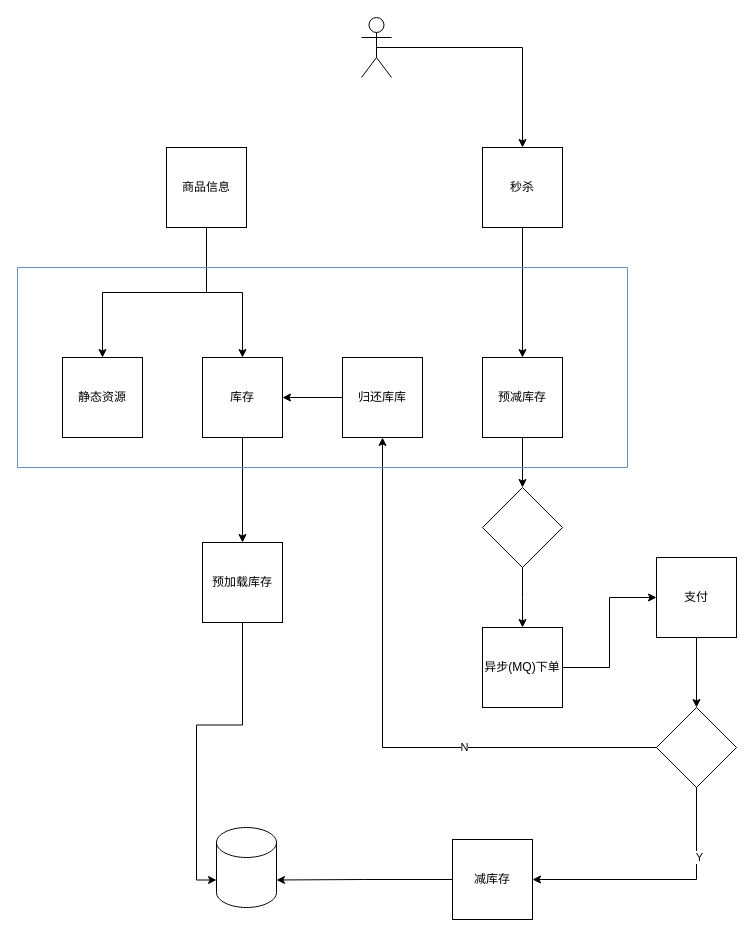
Some shapes in this 754 by 937 pixel diagram are drawn without their labels. Here are the shapes that lost their labels. From the top down, the centre of each, then its label:
point (376, 47): Actor
point (322, 367): 缓存(redis)
point (522, 527): 是否有库存
point (696, 747): 支付结果
point (246, 867): 库存表
